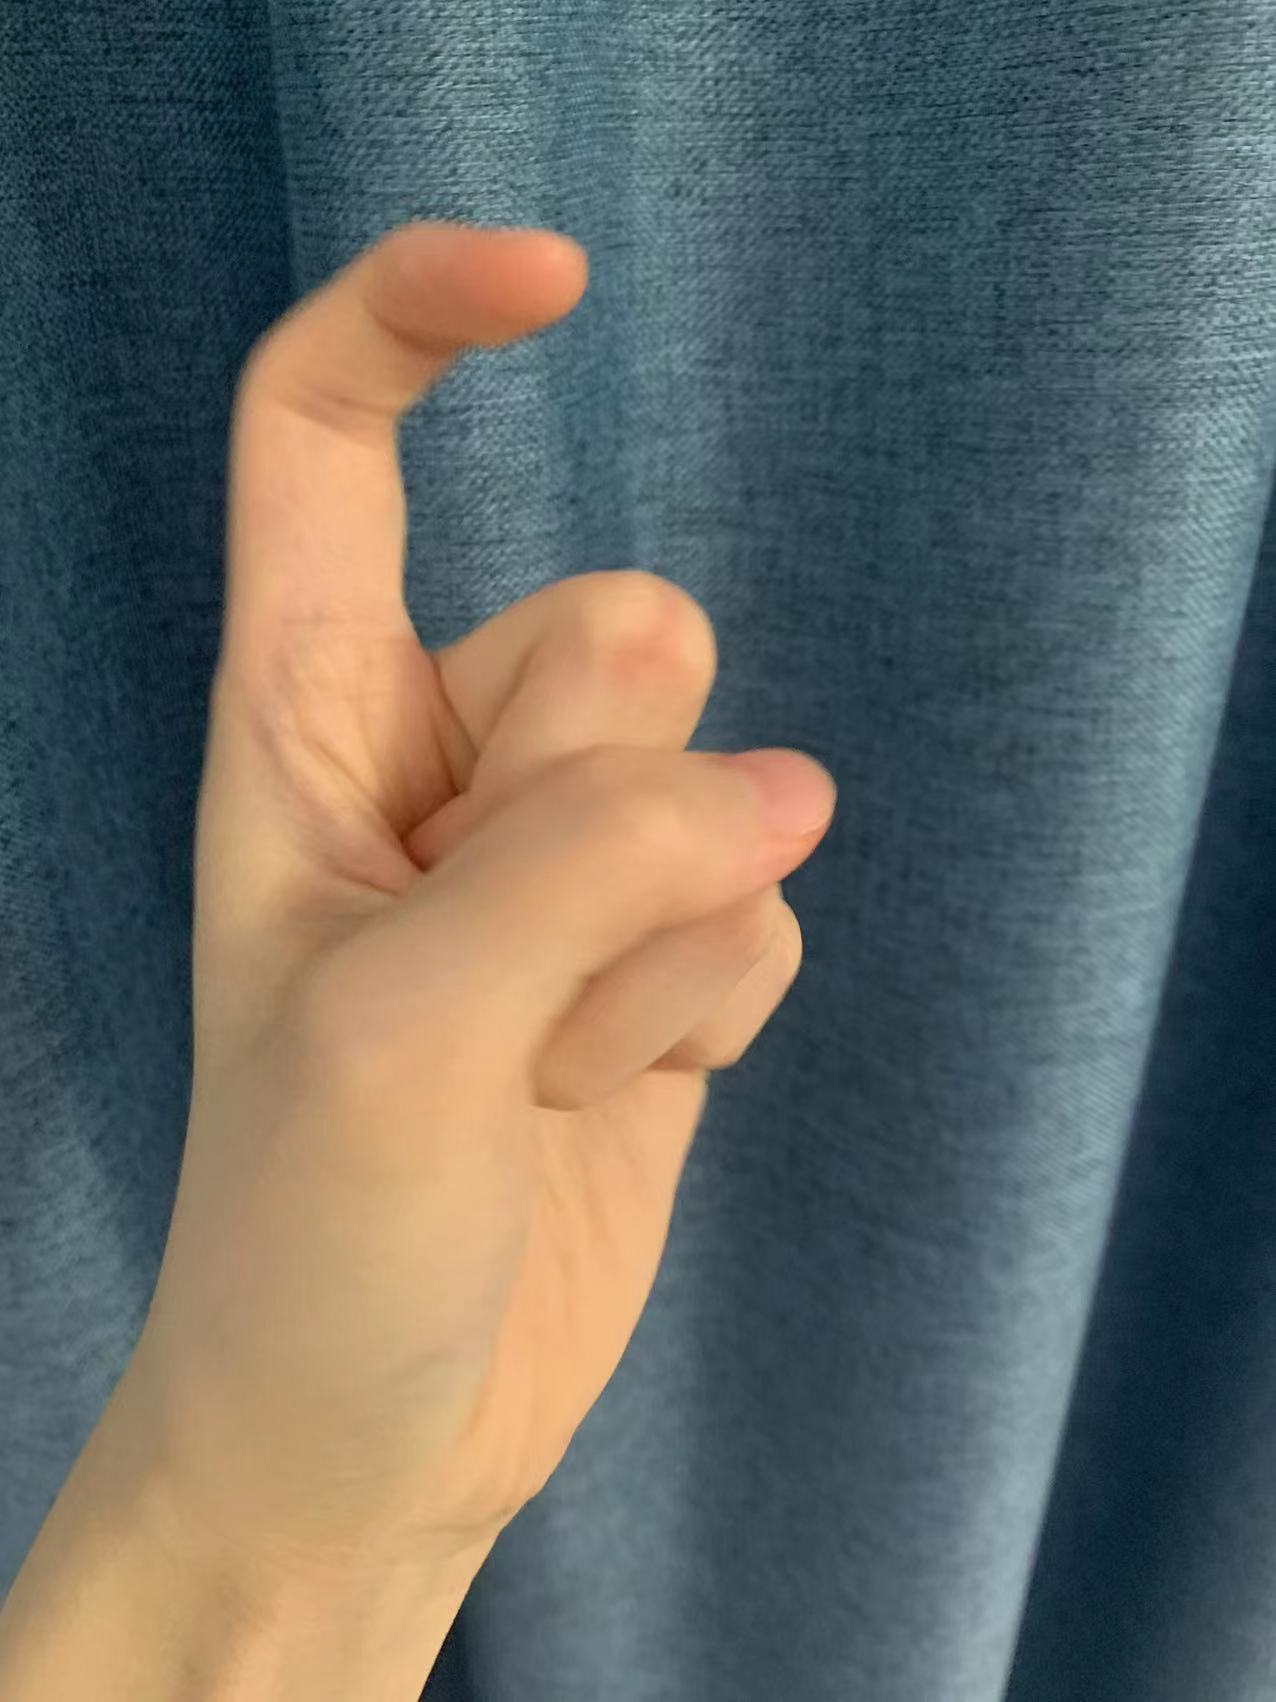anticlockwise: (133, 210, 869, 1321)
